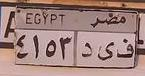1: (30, 34, 41, 58)
3: (57, 34, 74, 61)
4: (15, 34, 27, 61)
5: (45, 39, 57, 57)
daal: (80, 40, 95, 58)
faa: (114, 39, 136, 60)
yaa: (96, 39, 113, 63)
